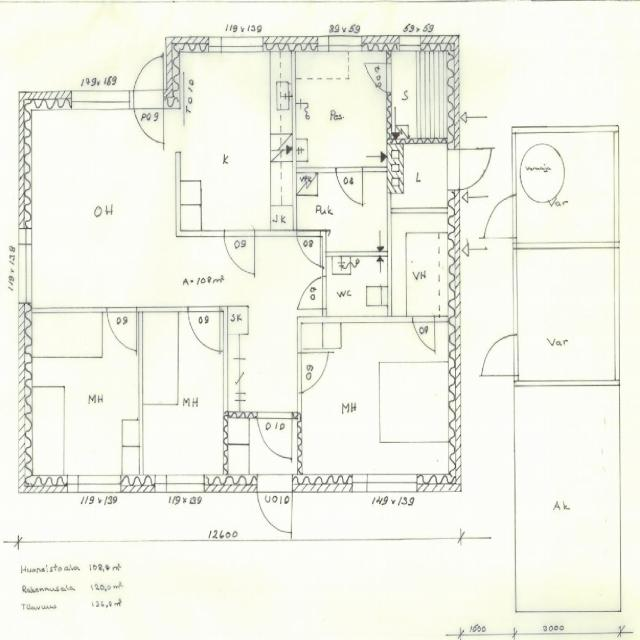door: (257, 474, 292, 538), (447, 149, 491, 191), (257, 412, 292, 464), (134, 92, 163, 149), (134, 53, 163, 110), (480, 333, 518, 376), (480, 194, 517, 236), (188, 307, 219, 354), (297, 352, 331, 392), (106, 307, 136, 352), (337, 167, 362, 207), (297, 275, 326, 309), (296, 231, 321, 268), (364, 63, 392, 93), (413, 317, 434, 350)
